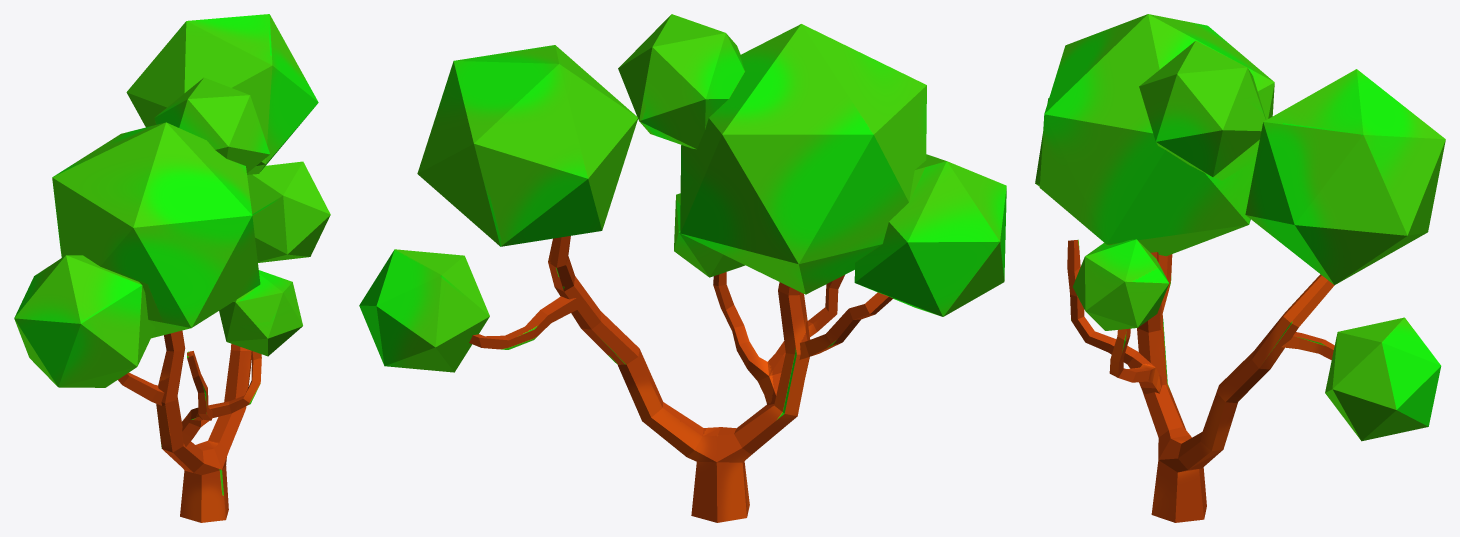
Rendered from small_tree.gltf.
3 renders of one model, left to right at view 1: azimuth 30°, elevation 25°; view 2: azimuth 150°, elevation 25°; view 3: azimuth 270°, elevation 25°, orthographic. The views are drawn at different scales.
Parts seen in each view (by area): view 1: Tree_lp_11; view 2: Tree_lp_11; view 3: Tree_lp_11.
Part boxes in pixels (x1,y1,x2,y2): Tree_lp_11: [14, 14, 330, 522]; Tree_lp_11: [359, 14, 1006, 522]; Tree_lp_11: [1035, 14, 1445, 522].
Size of the model in its own units: 27.98 by 26.54 by 20.8.
1 material, 1 textured.
